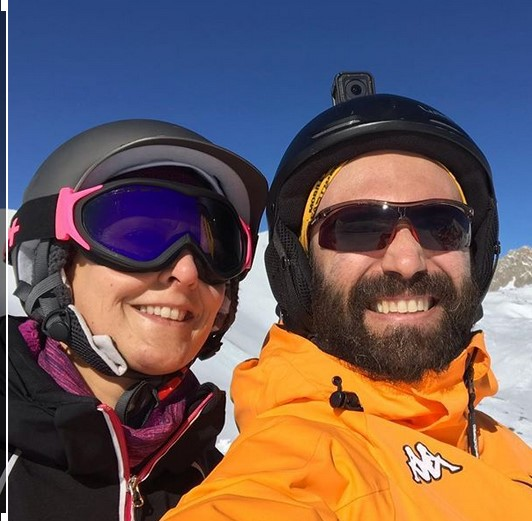face_no_mask: (306, 146, 477, 365)
